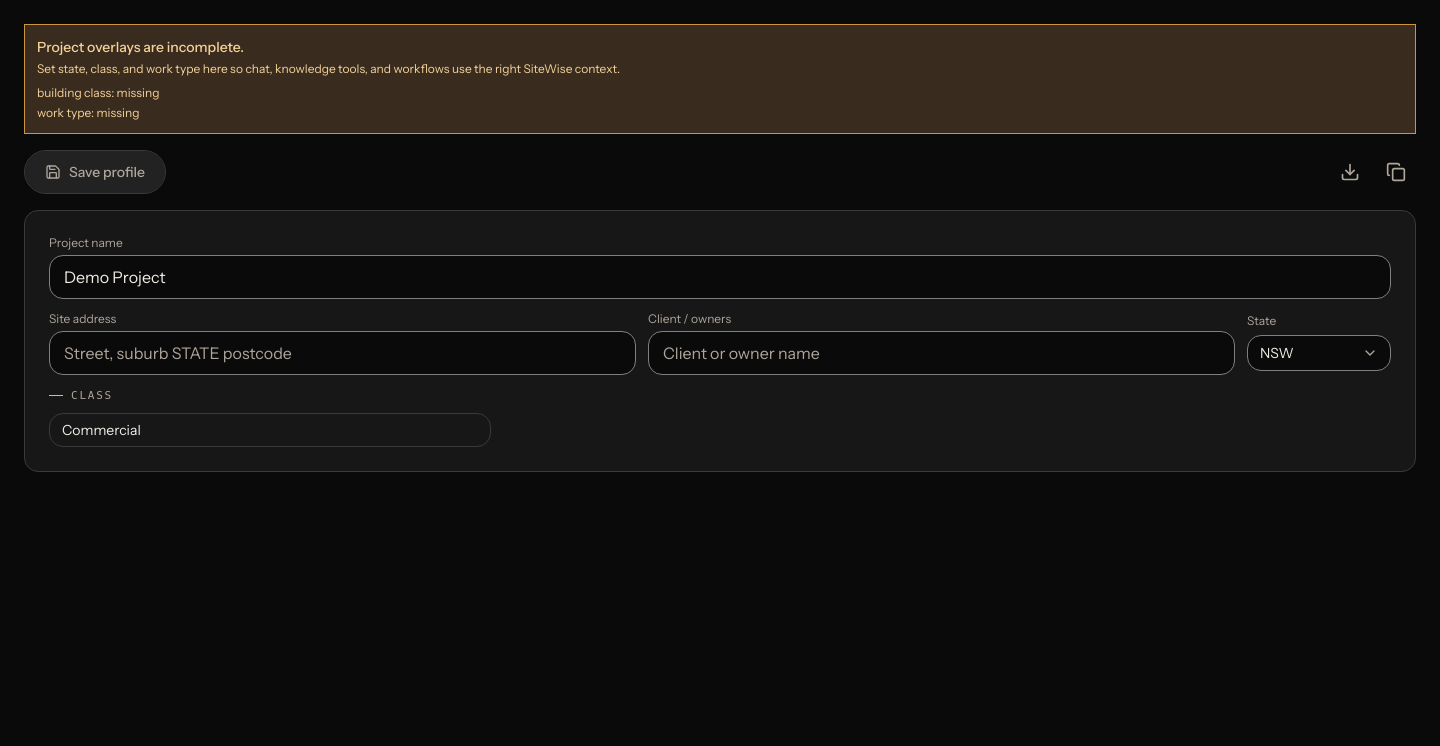
ProjectControlBoard project profile › asks to save when class and work type are selected but not yet persisted
Step 1. Click the button "Commercial" → (101, 430), box [49,413,491,447]
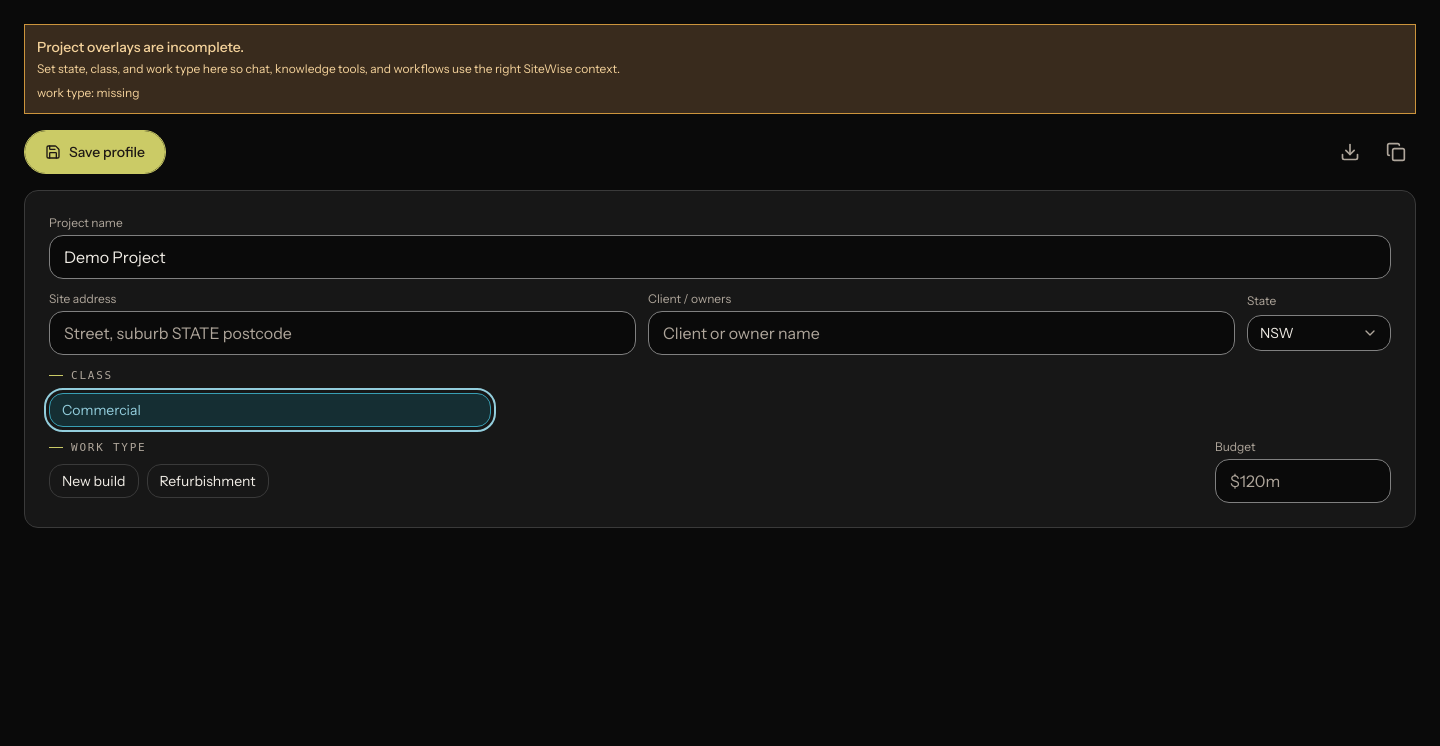
Step 2. Click the button "Refurbishment" → (208, 481), box [146,464,268,498]
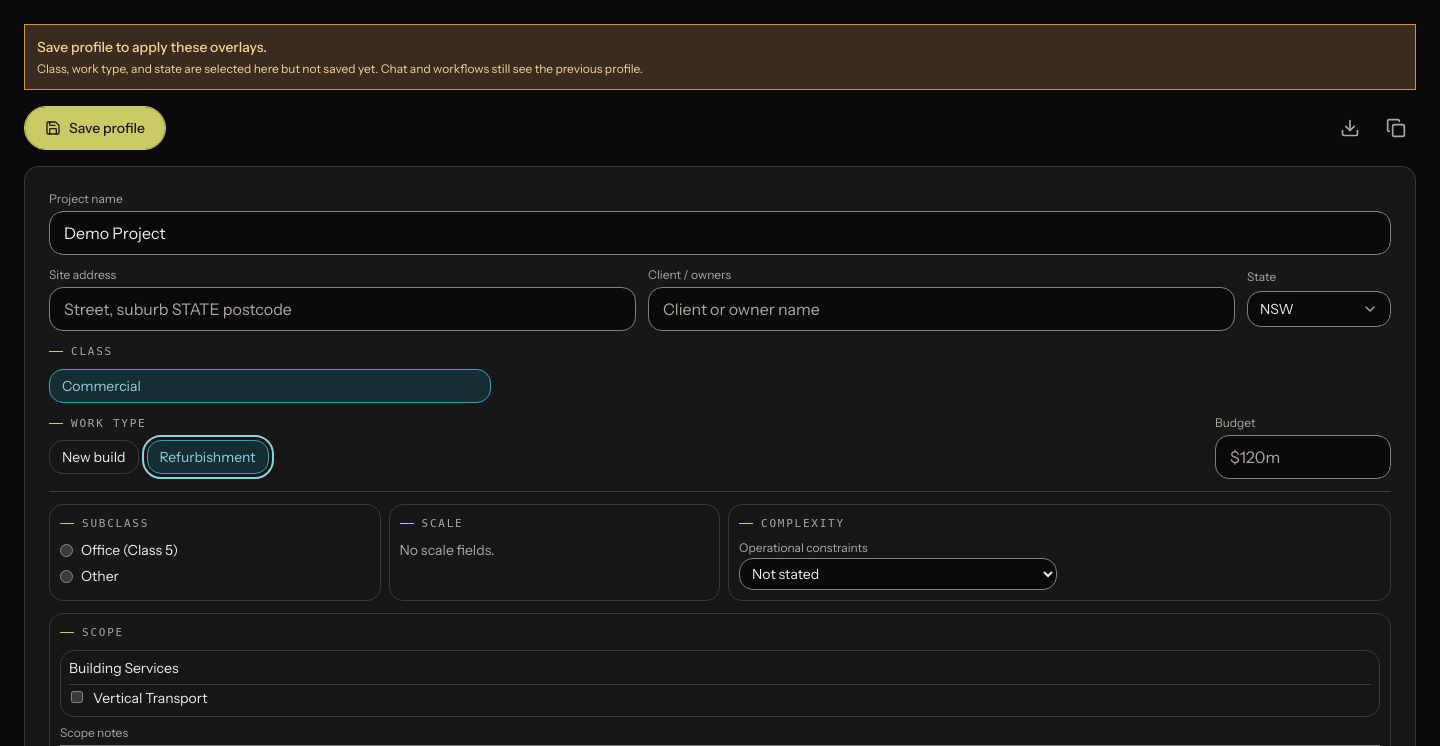
expect the button "Save profile" is enabled: met, box [24,106,166,150]
expect the text "Save profile to apply these overlays." is shown: met, box [37,38,267,56]
expect the list item "work type: missing" is gone: met
